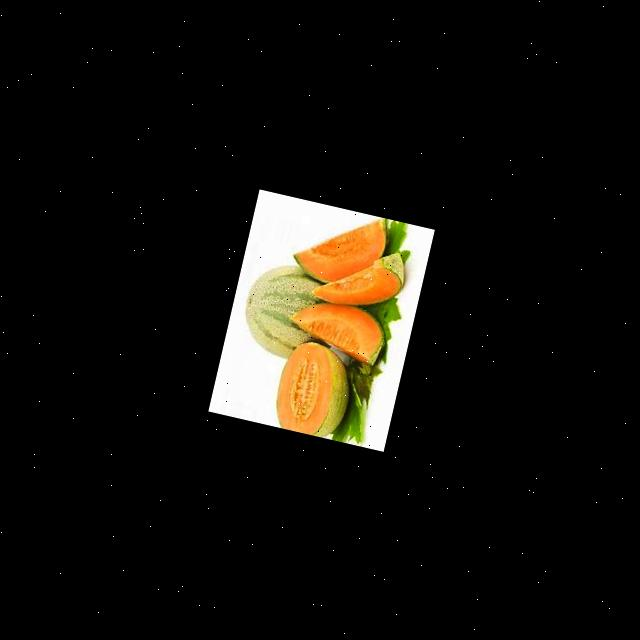Hami Melon: (267, 336, 358, 441), (310, 236, 408, 317), (284, 295, 389, 367)
